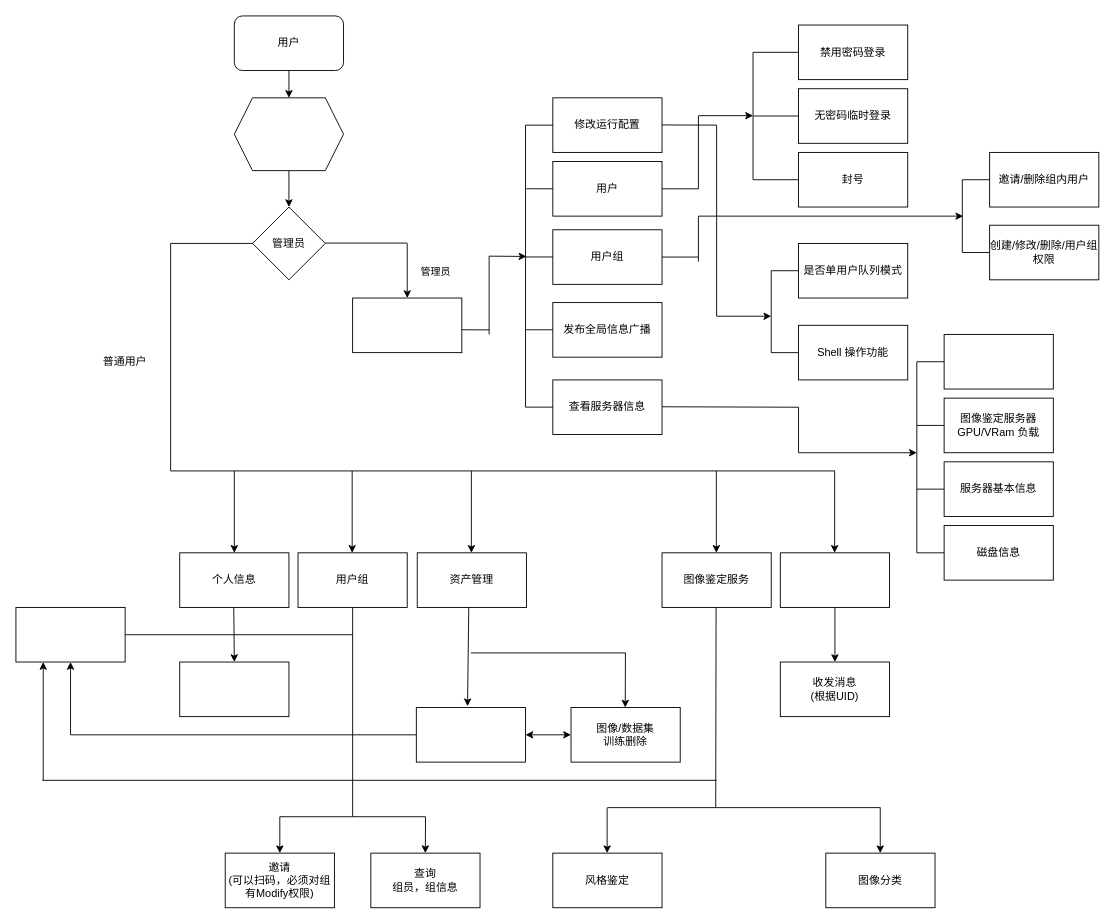
The diagram is 1115 pixels wide and 924 high, and some of its shapes have lost their labels. Here are the shapes that lost their labels. From the top down, the centre of each, then its label:
(288,134): 获取用户角色
(407,325): 额外功能
(998,361): 图像管理服务器 CPU/内存负载
(834,579): 消息功能
(70,634): 搜索 (基于关键词或二维码)
(234,689): 查询/修改个人信息 仅自己
(470,734): 神经网络模型 训练删除
